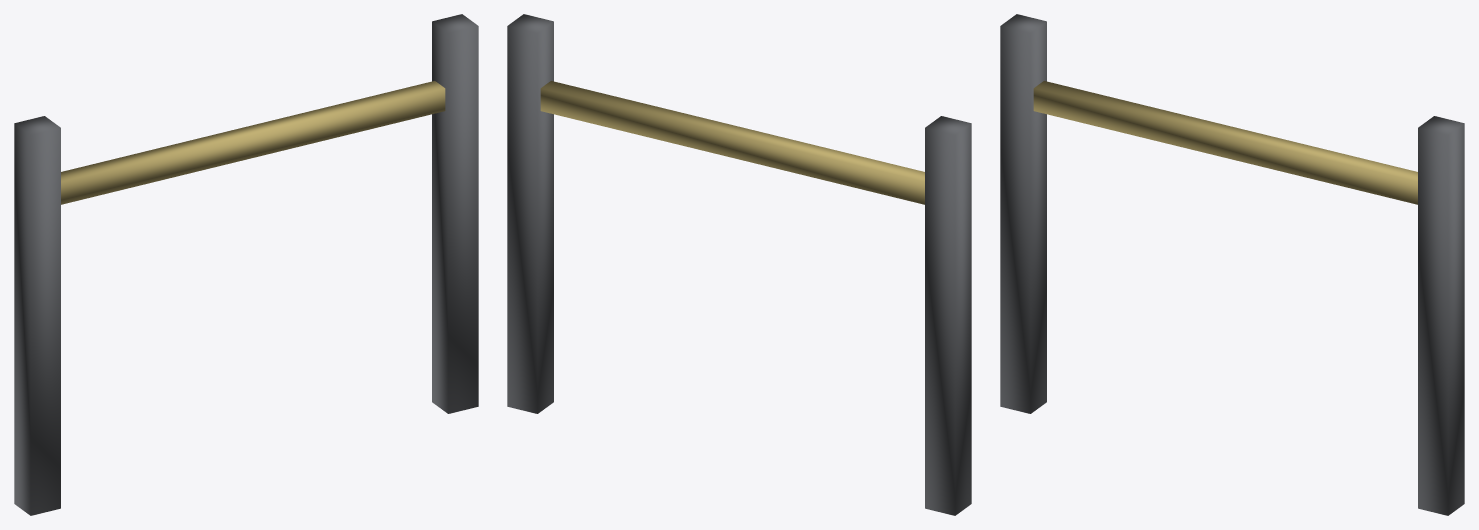
The model's file is queue_gate_10.glb.
The picture shows the model from 3 angles, left to right: view 1: azimuth 30°, elevation 25°; view 2: azimuth 150°, elevation 25°; view 3: azimuth 330°, elevation 25°; orthographic projection.
Visible parts, largest first — view 1: world; view 2: world; view 3: world.
Boxes of the visible parts, x1=… form: world: x1=14, y1=14, x2=478, y2=515; world: x1=507, y1=14, x2=971, y2=515; world: x1=1000, y1=14, x2=1464, y2=515.
Size of the model in its own units: 1.13 by 0.92 by 0.072.
